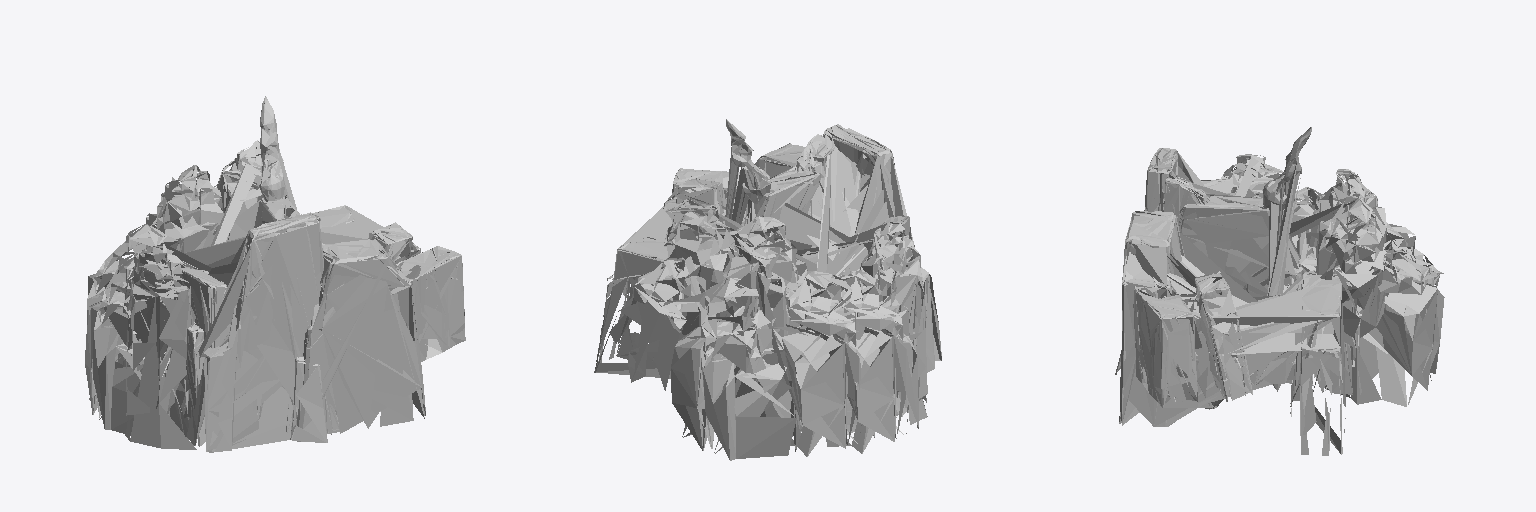
Rendered from cellDesert_TitanicValley_Proxy-sharedassets3.assets-579.obj.
The picture shows the model from 3 angles: view 1: azimuth 30°, elevation 25°; view 2: azimuth 150°, elevation 25°; view 3: azimuth 270°, elevation 25°; orthographic projection.
Visible parts, largest first — view 1: cellDesert_TitanicValley_Proxy_1, cellDesert_TitanicValley_Proxy_0, cellDesert_TitanicValley_Proxy_2; view 2: cellDesert_TitanicValley_Proxy_1, cellDesert_TitanicValley_Proxy_0, cellDesert_TitanicValley_Proxy_2; view 3: cellDesert_TitanicValley_Proxy_1, cellDesert_TitanicValley_Proxy_0, cellDesert_TitanicValley_Proxy_2.
Part boxes in pixels (x1,y1,x2,y2): cellDesert_TitanicValley_Proxy_1: (85,97,464,452); cellDesert_TitanicValley_Proxy_0: (134,110,465,451); cellDesert_TitanicValley_Proxy_2: (260,96,284,202); cellDesert_TitanicValley_Proxy_1: (594,119,941,460); cellDesert_TitanicValley_Proxy_0: (672,121,941,429); cellDesert_TitanicValley_Proxy_2: (726,120,770,204); cellDesert_TitanicValley_Proxy_1: (1115,127,1444,455); cellDesert_TitanicValley_Proxy_0: (1119,148,1359,426); cellDesert_TitanicValley_Proxy_2: (1263,127,1311,209).
Bounding box in the file's own units: 236 × 213 × 223.